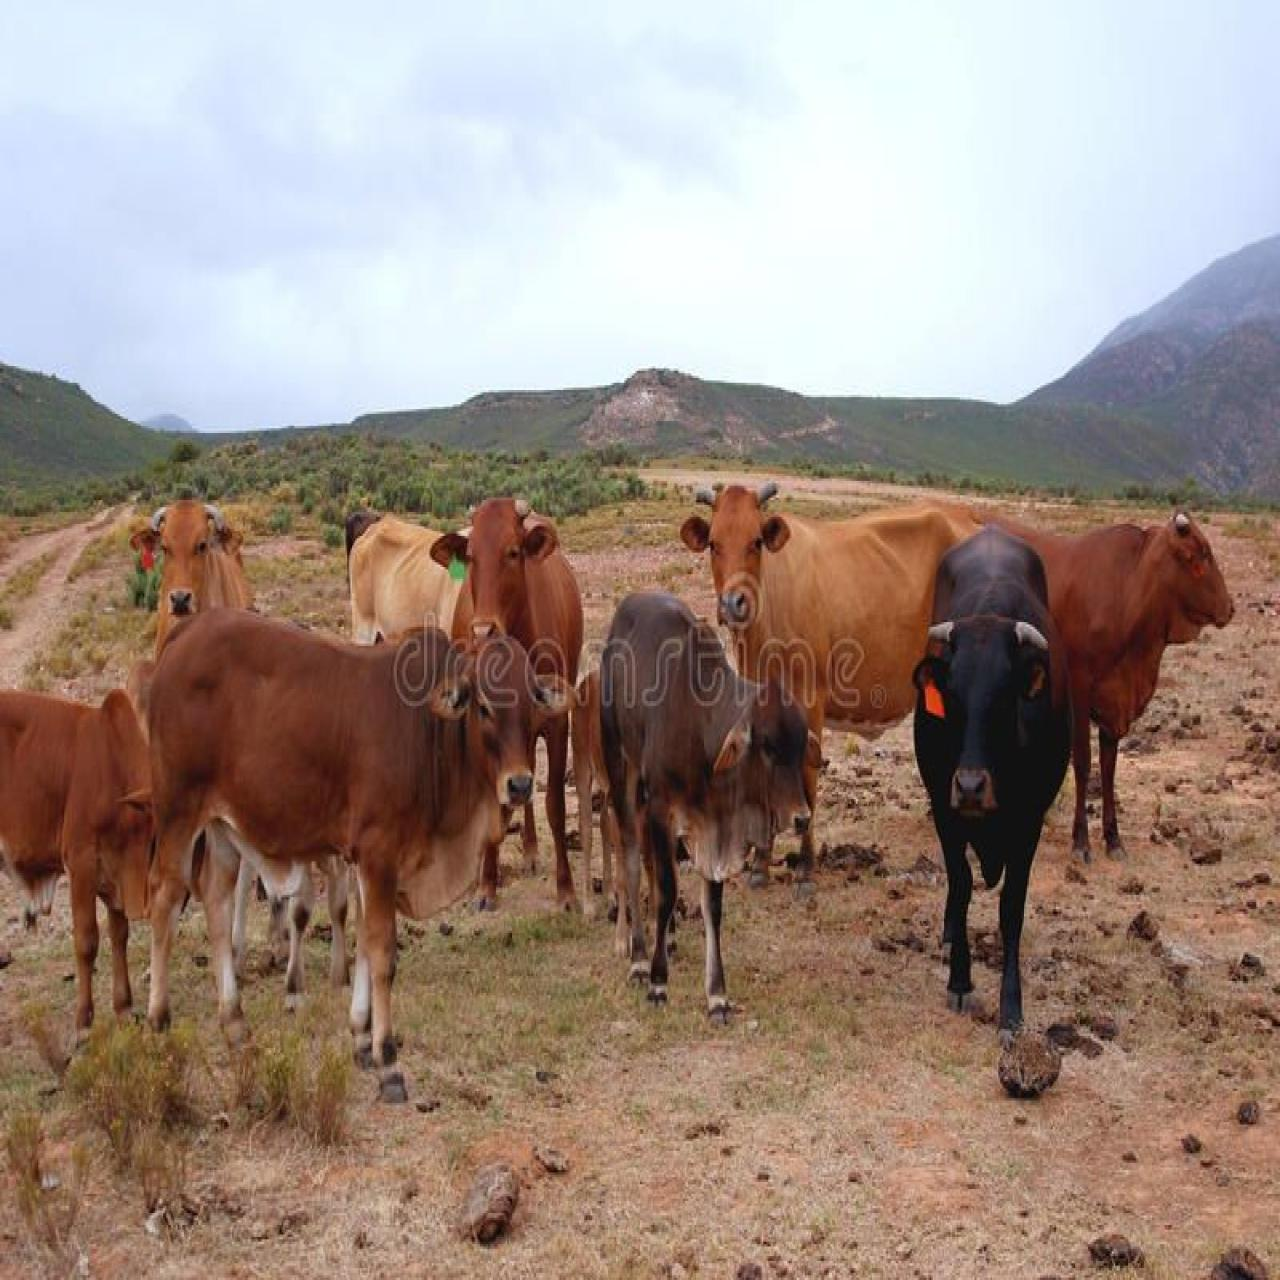cow: (151, 612, 566, 1083), (942, 506, 1246, 881), (595, 592, 821, 1027), (692, 459, 961, 772), (898, 611, 1065, 1048), (444, 497, 587, 978), (0, 666, 164, 1049), (343, 497, 472, 679), (130, 496, 263, 651)
